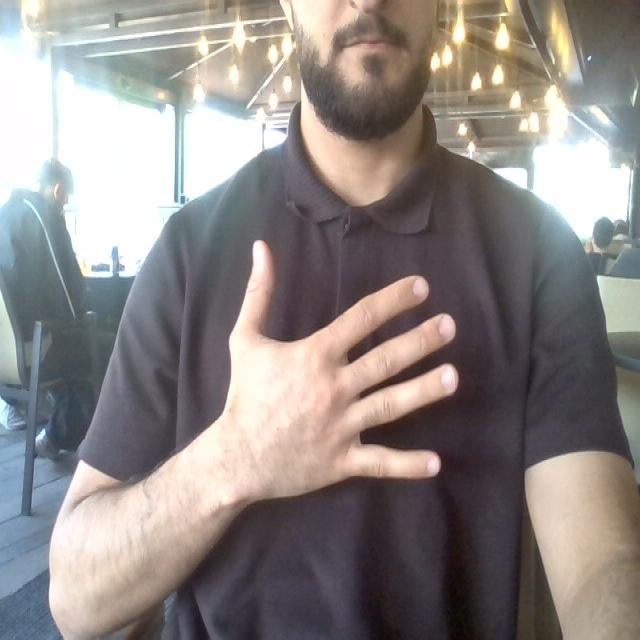Hand: (220, 242, 457, 498)
